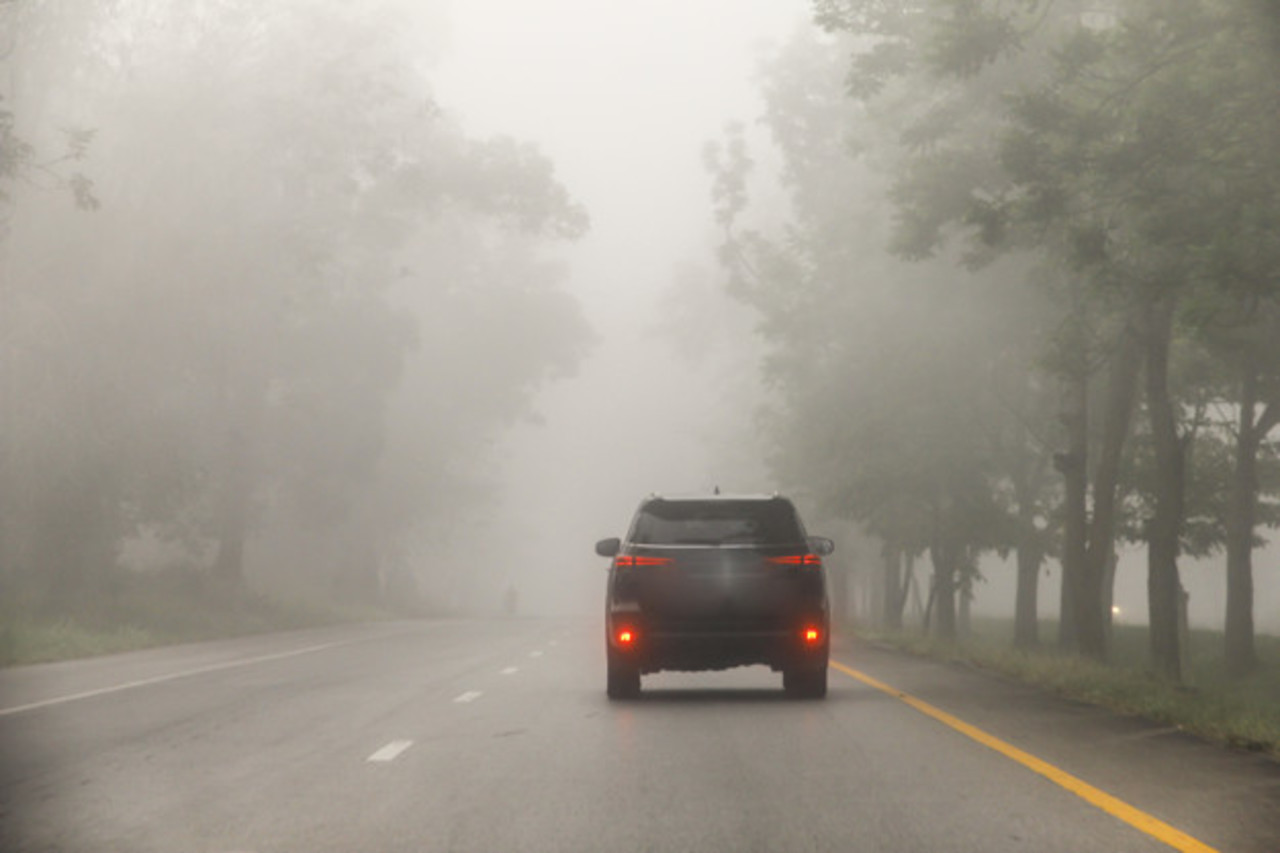car: (594, 497, 844, 704)
